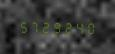five: (17, 19, 27, 33)
four: (72, 20, 82, 34)
nine: (50, 19, 60, 34)
seven: (28, 19, 38, 33)
two: (39, 19, 49, 33), (61, 20, 71, 34)
zero: (83, 20, 93, 34)
